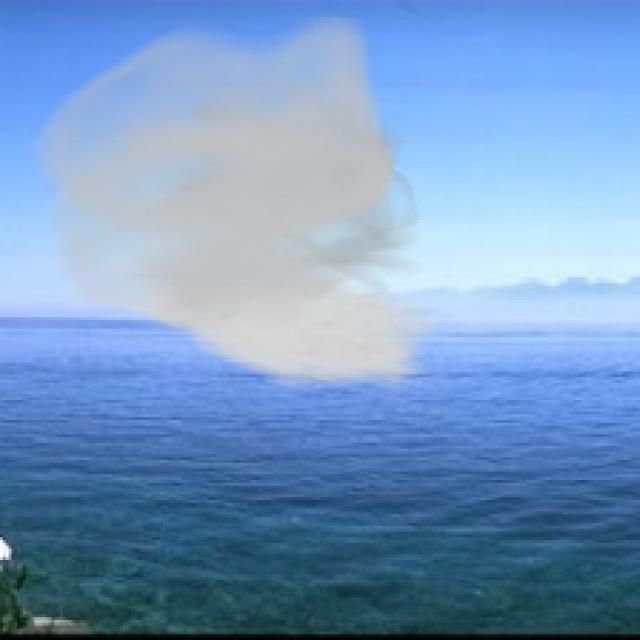Smoke: (23, 14, 446, 394)
